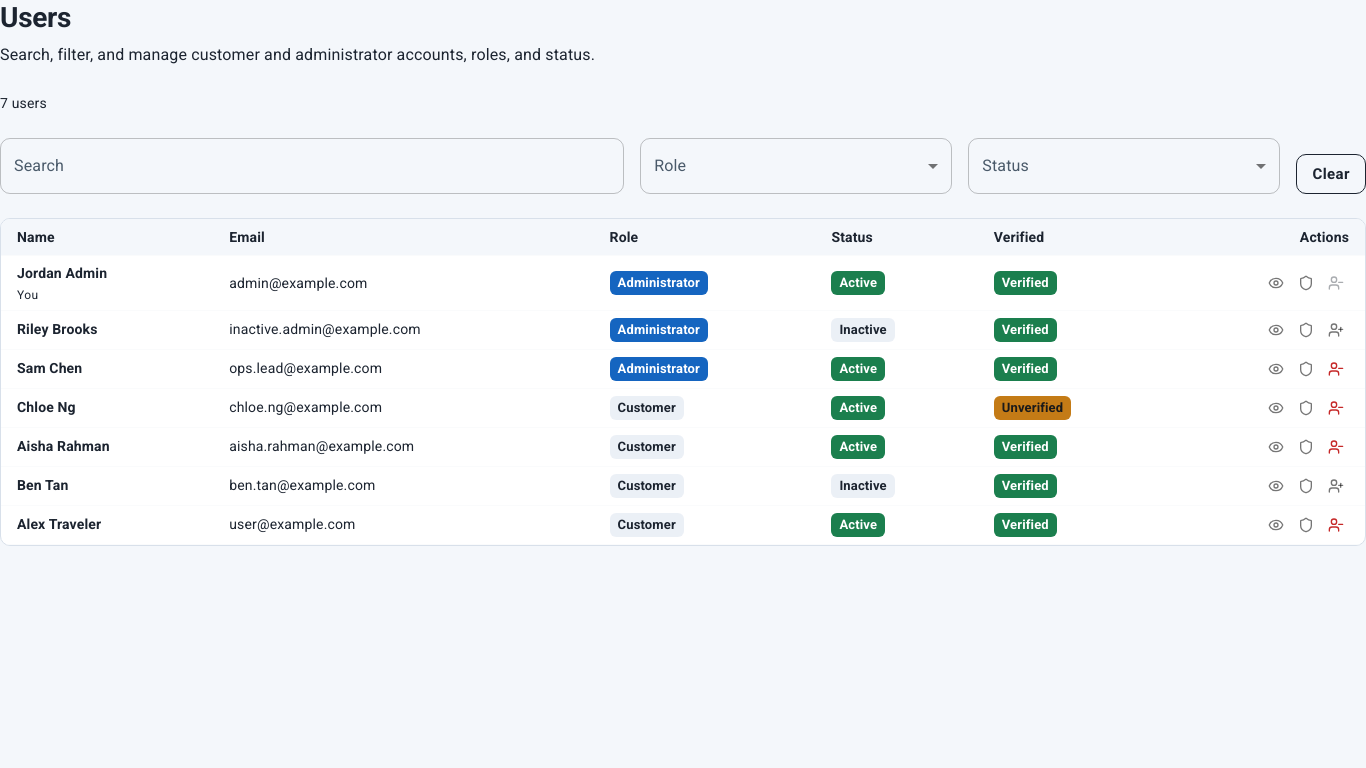
Test: AdminUsersPage › activates an inactive user after confirmation
Expected: the text "ben.tan@example.com" is shown, [213,467,594,506]
Click the button named "Activate ben.tan@example.com" at (1336, 486), box [1323,473,1349,499]
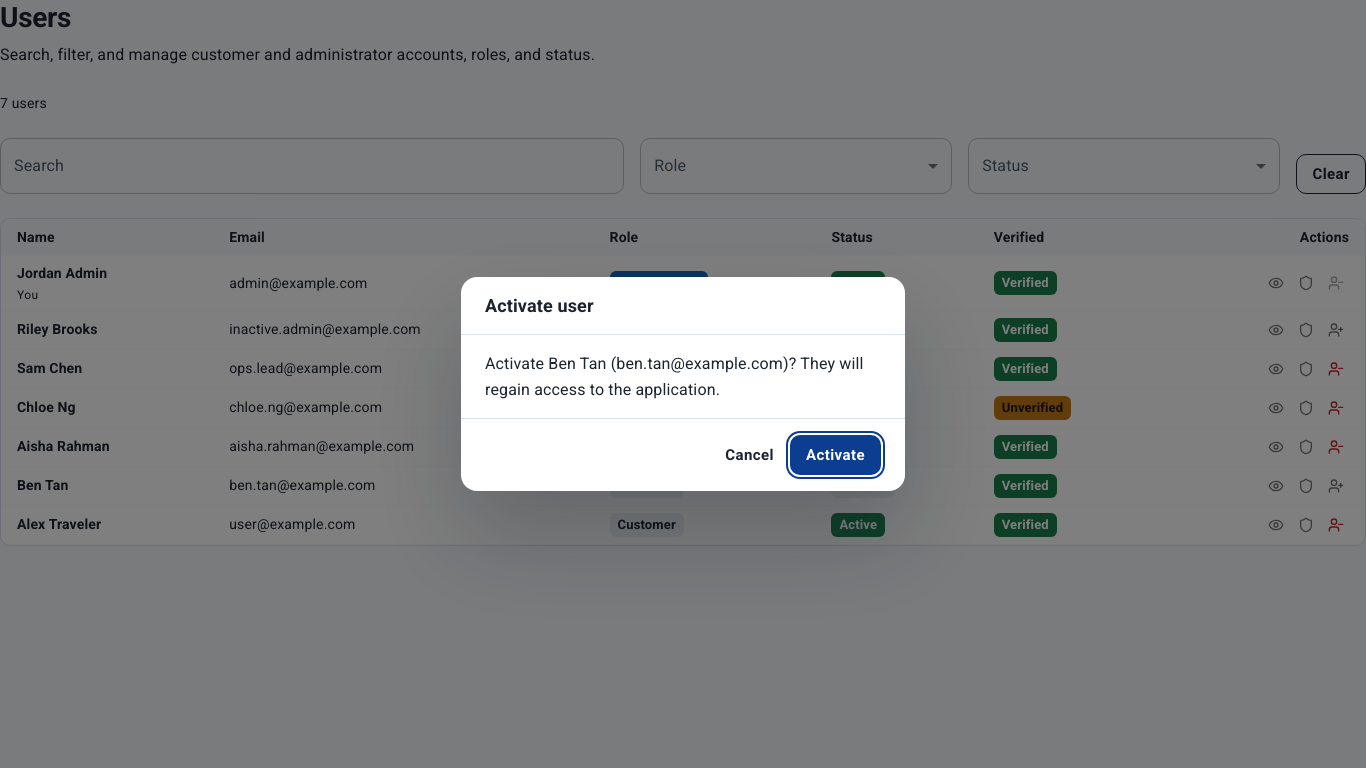
Expected: the heading "Activate user" is shown, [485,295,594,316]
Click the button "Activate" at (835, 455), box [790,435,881,475]
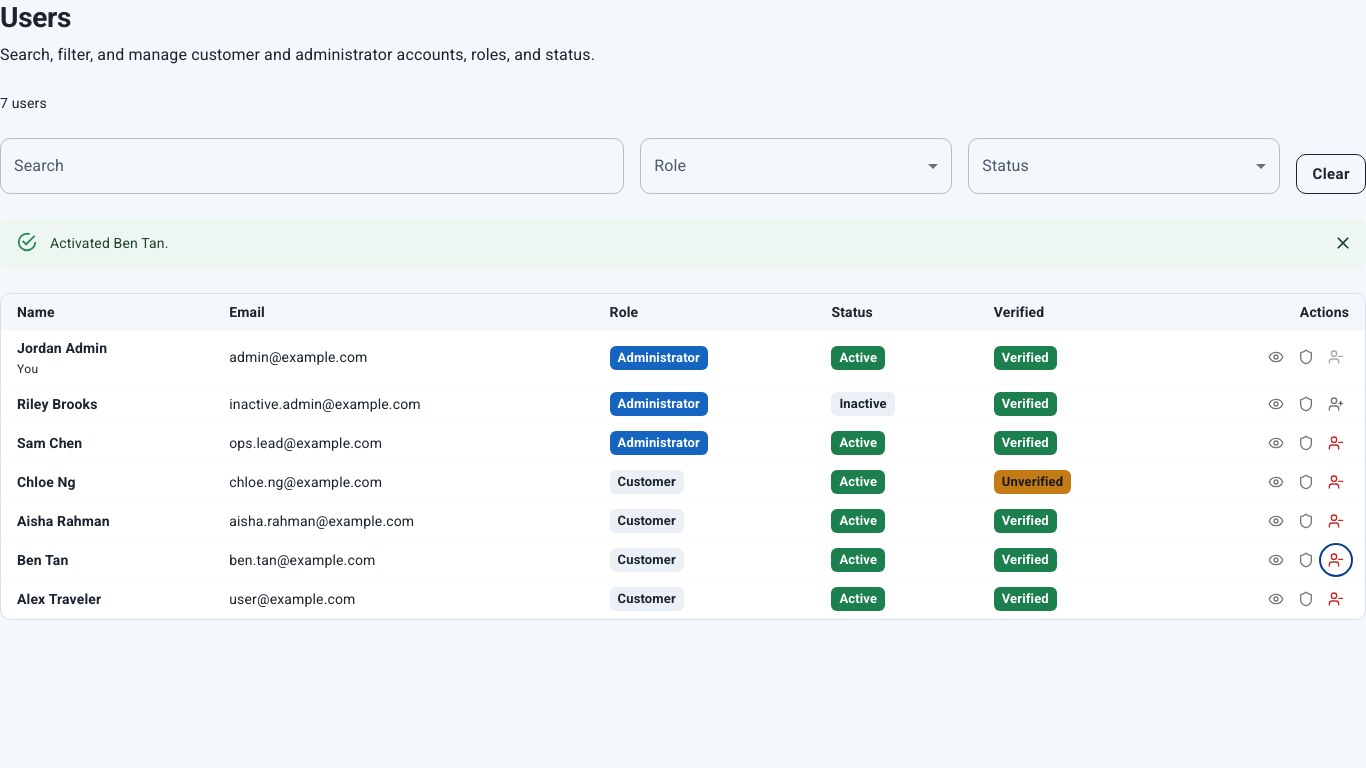
Expected: the text "Activated Ben Tan." is shown, [50,235,168,251]
